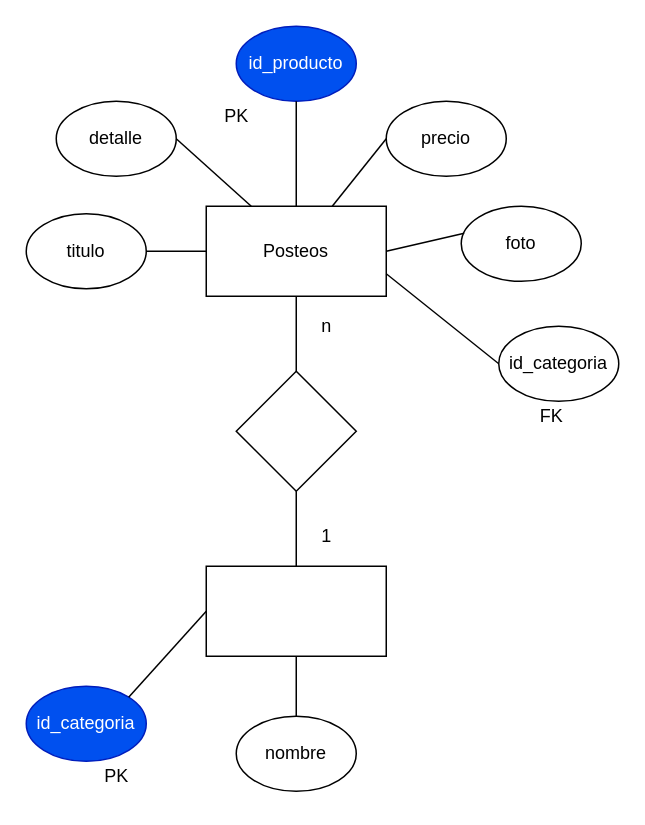
Some shapes in this 645 by 825 pixel diagram are drawn without their labels. The centre of each missing label's shape, as x and y in pixels:
Categorias: pixel 295 610
pertenece: pixel 295 430
